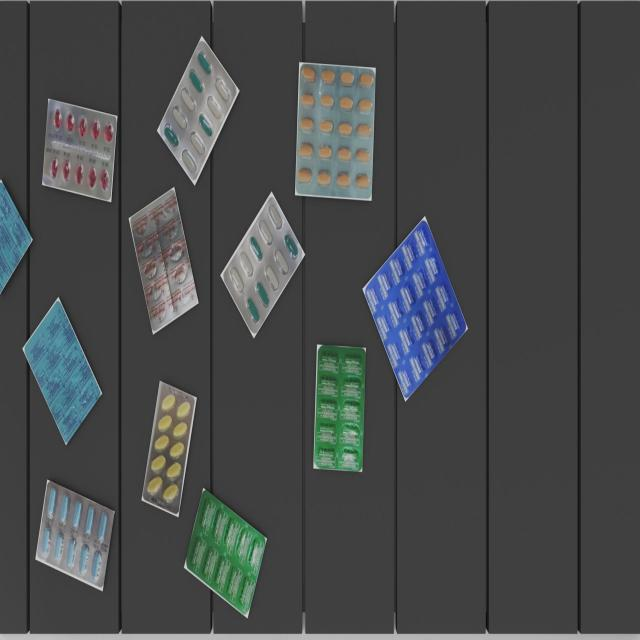blister: (365, 218, 466, 398), (222, 193, 303, 334), (160, 39, 238, 184), (24, 302, 102, 446), (298, 62, 376, 198), (187, 486, 266, 617), (130, 187, 200, 334), (35, 482, 115, 590), (41, 98, 118, 206), (315, 344, 366, 474), (145, 383, 195, 515), (0, 176, 32, 301)
